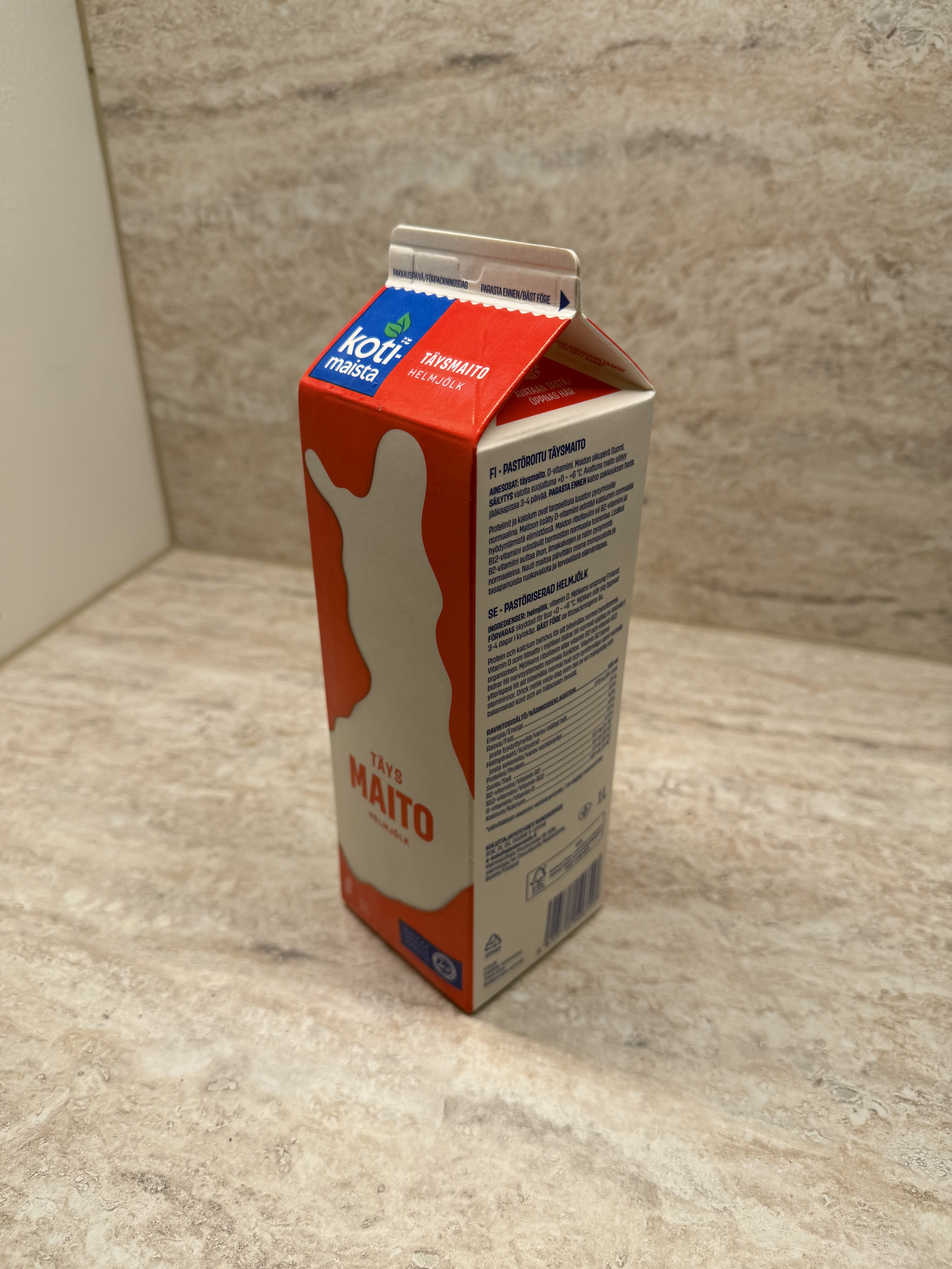Dryckeskartong: (288, 217, 661, 1024)
